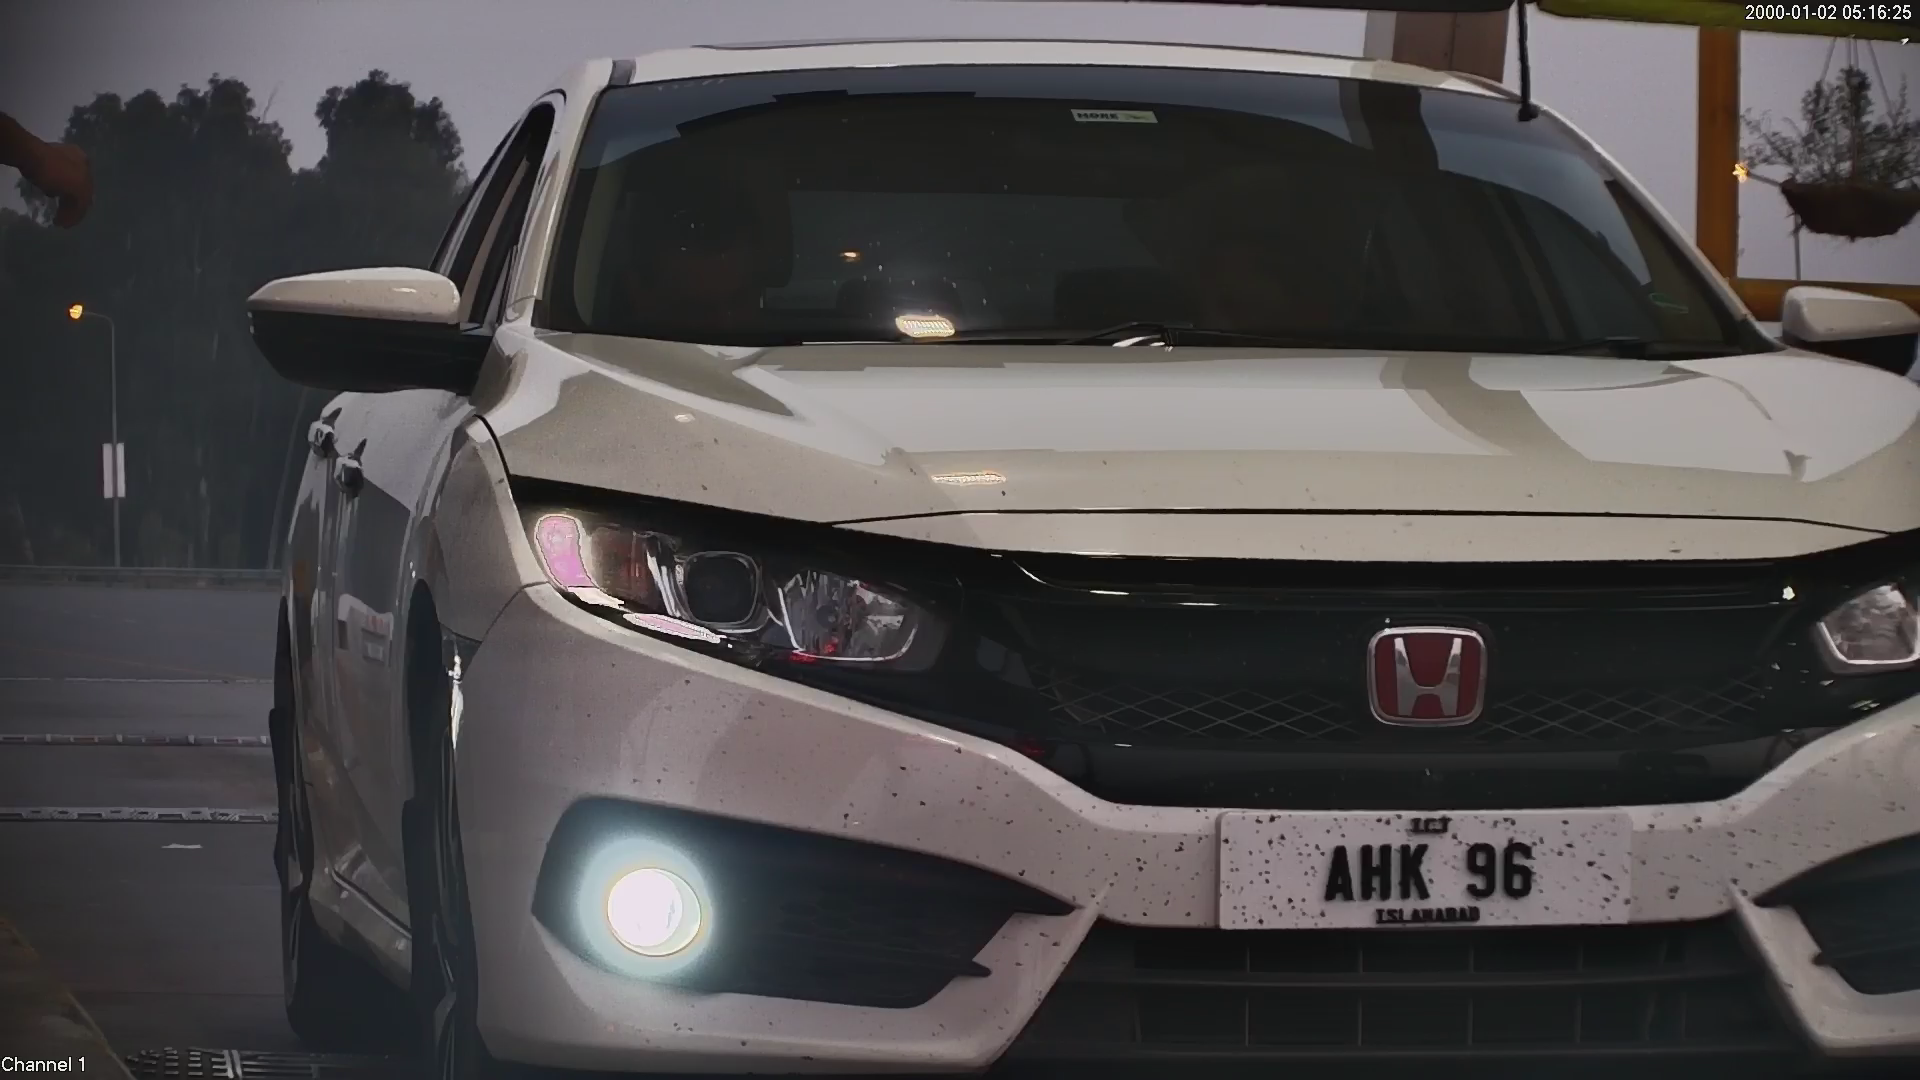Number_Plate: (1205, 797, 1649, 949)
